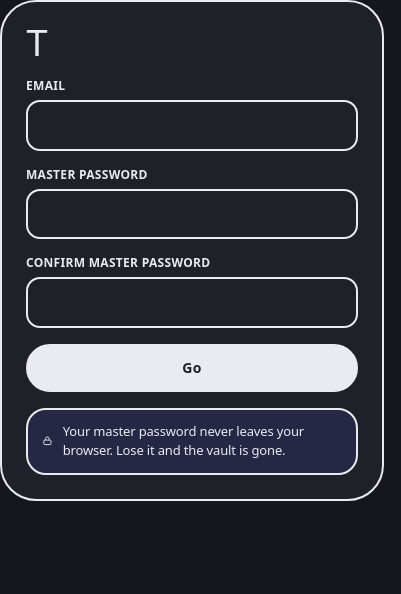
Test: AuthForm register mode › blocks submit with an alert when the master password is weak
Type "a@b.co" into the field labelled "Email" at (192, 125), box [26,100,358,150]
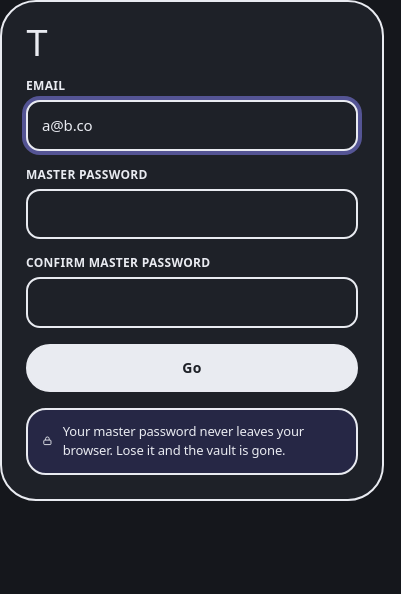
Type "abc123" into the password field labelled "Master password" at (192, 214), box [26,188,358,239]
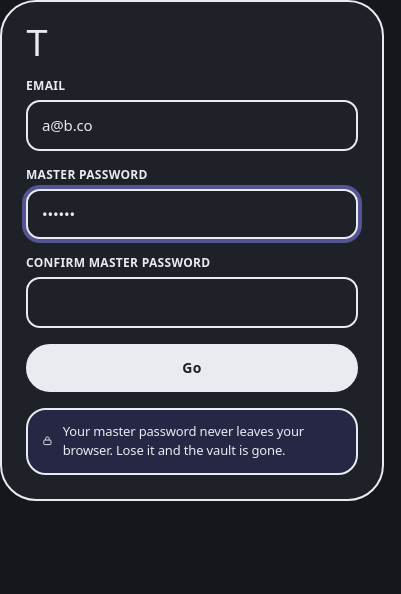
Type "abc123" into the password field labelled "Confirm master password" at (192, 302), box [26,277,358,328]
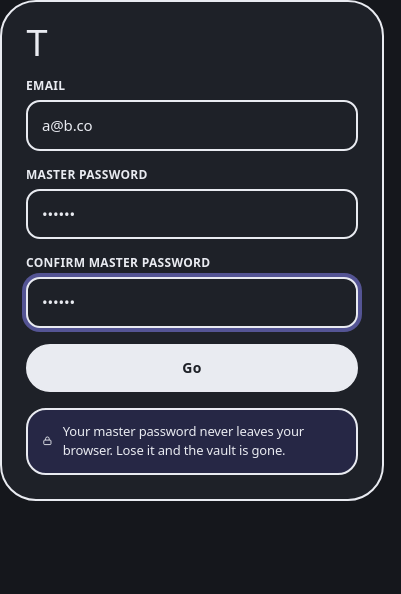
Click the button "Go" at (192, 368), box [26,344,358,392]
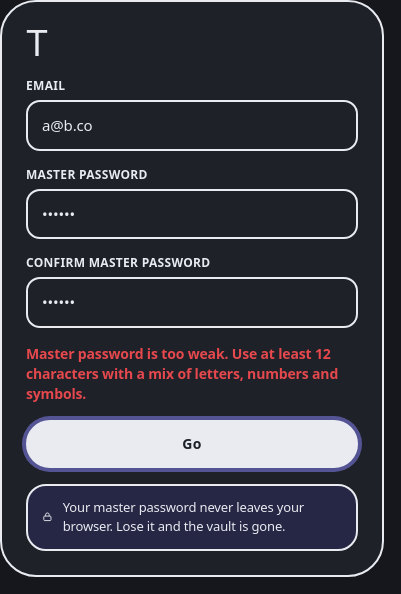
Now the message shows "too weak", box [26,344,338,402]
